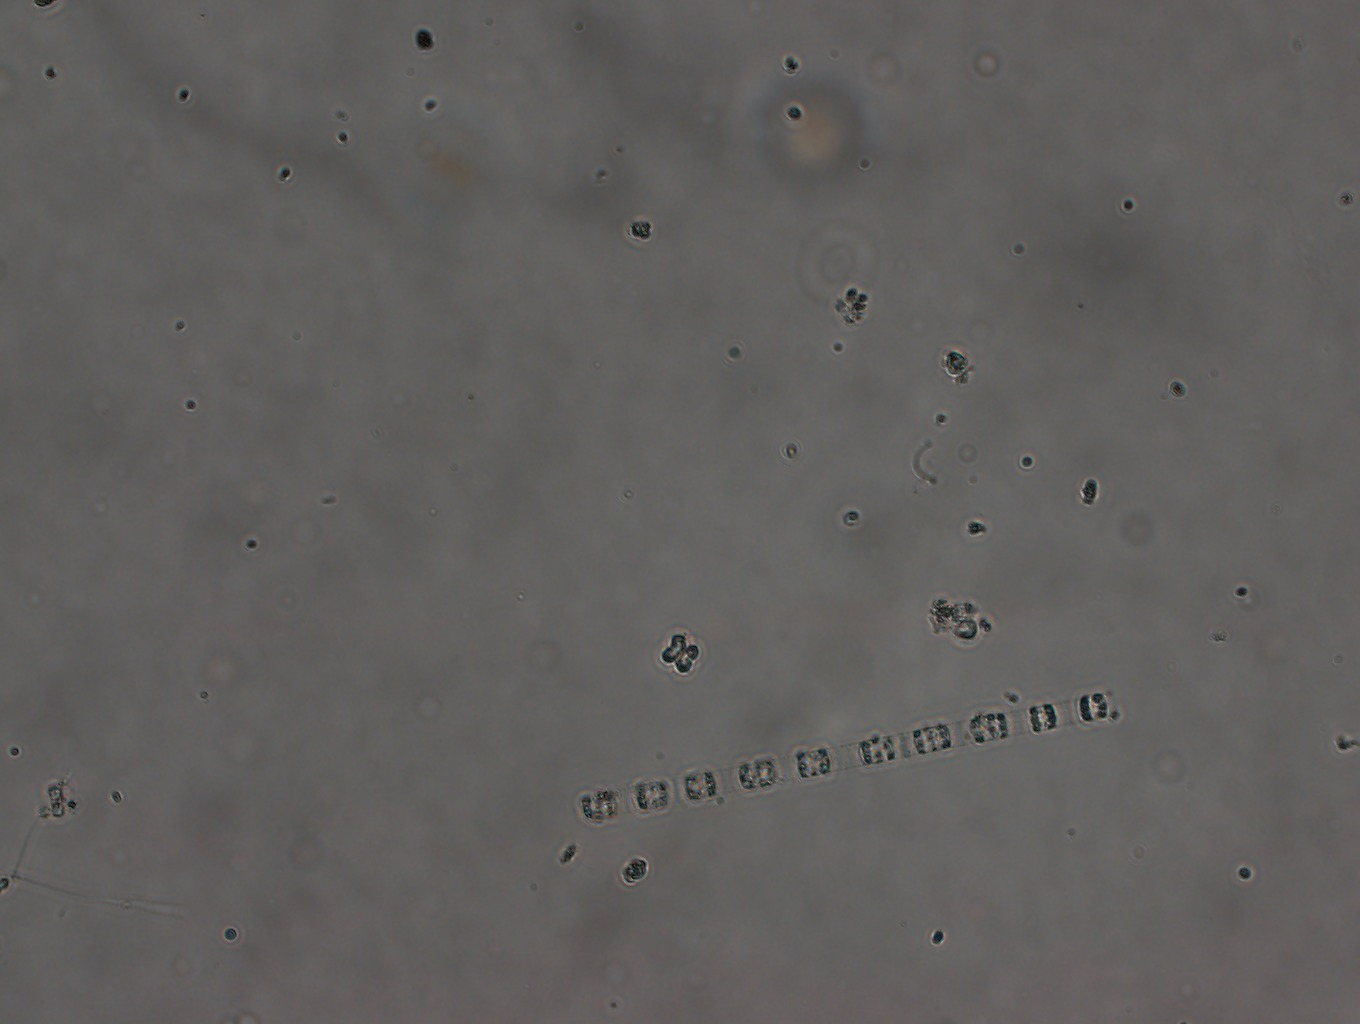skeletonema: (555, 677, 1141, 830)
